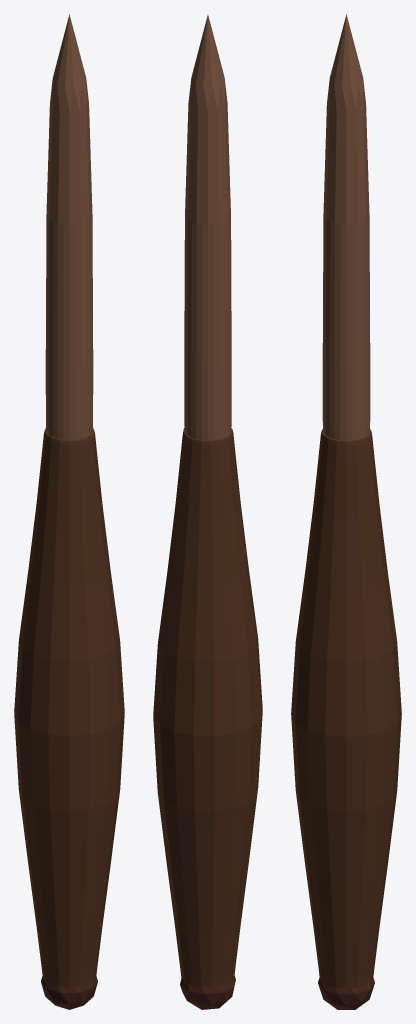
The model's file is Wand 100.glb.
The picture shows the model from 3 angles, left to right: view 1: azimuth 90°, elevation 25°; view 2: azimuth 210°, elevation 25°; view 3: azimuth 270°, elevation 25°; orthographic projection.
Parts seen in each view (by area): view 1: GeneratedWand; view 2: GeneratedWand; view 3: GeneratedWand.
Part boxes in pixels (x1=…): GeneratedWand: x1=14, y1=14, x2=124, y2=1009; GeneratedWand: x1=153, y1=15, x2=262, y2=1009; GeneratedWand: x1=291, y1=14, x2=401, y2=1009.
Bounding box in the file's own units: 0.0499 × 0.4939 × 0.0499.
